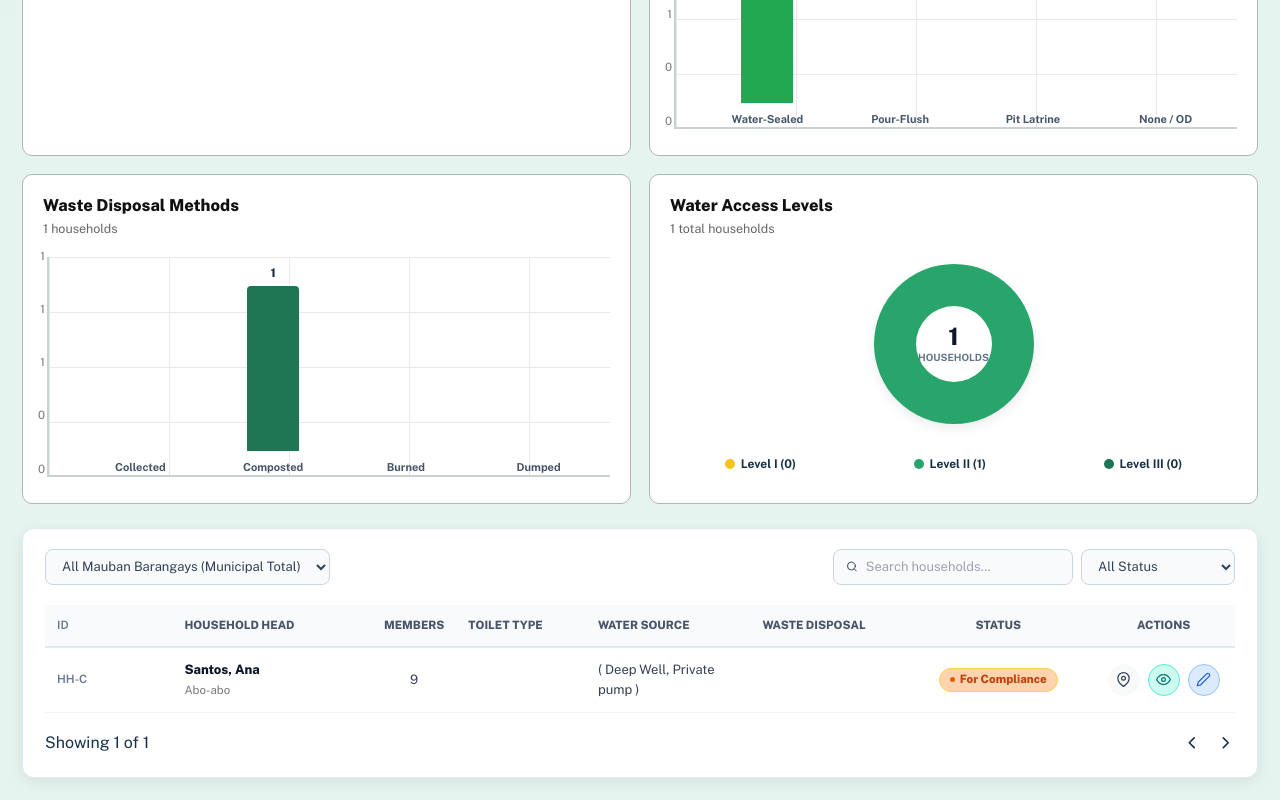
fixed fields are radio controls with exact choices and legacy messages
(page scrolled)
Click the button titled "Edit Household Record" at (1204, 680), box [1188, 664, 1220, 696]
(page scrolled)
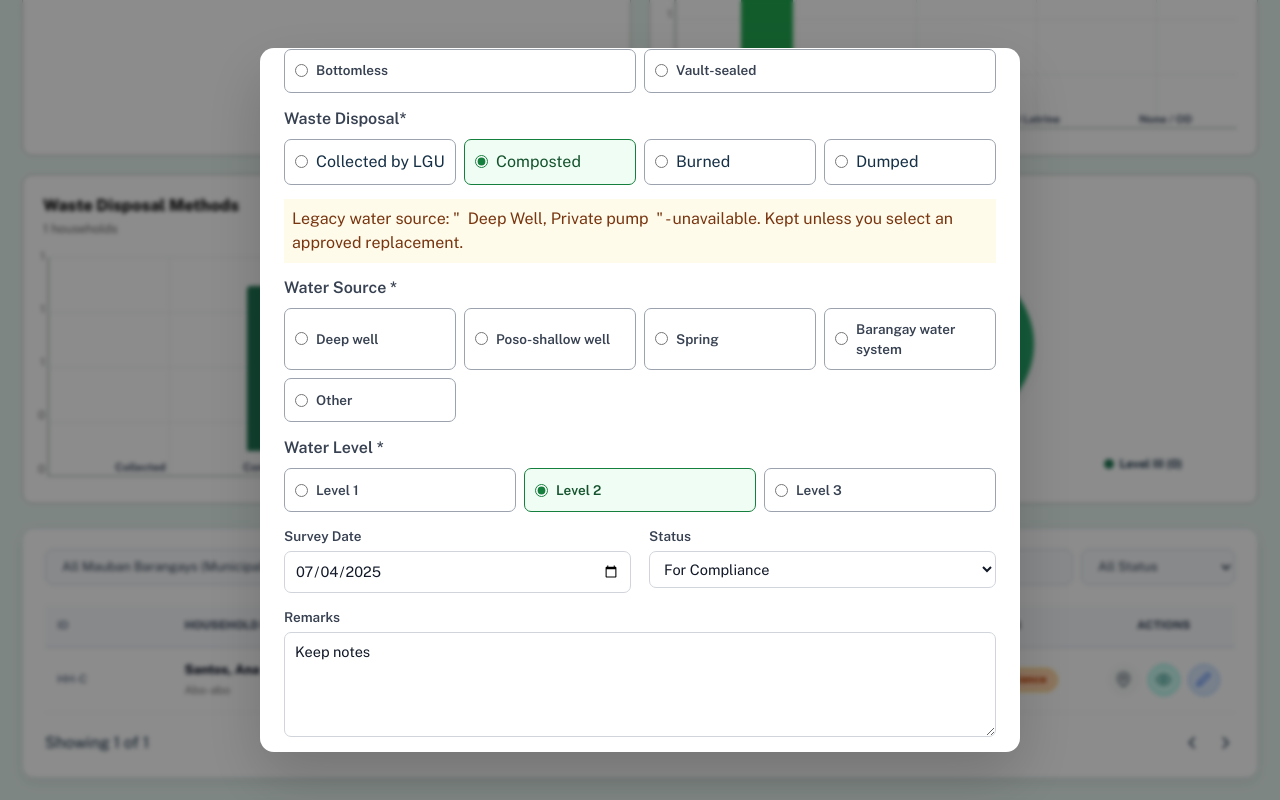
Expected: the text "Legacy water source:" shows "Deep Well, Private pump", [460, 208, 656, 228]
Expected: the radio button labelled "Level 2" is checked, [535, 484, 548, 496]
Expected: the radio button labelled "Other" is not checked, [295, 394, 308, 406]
